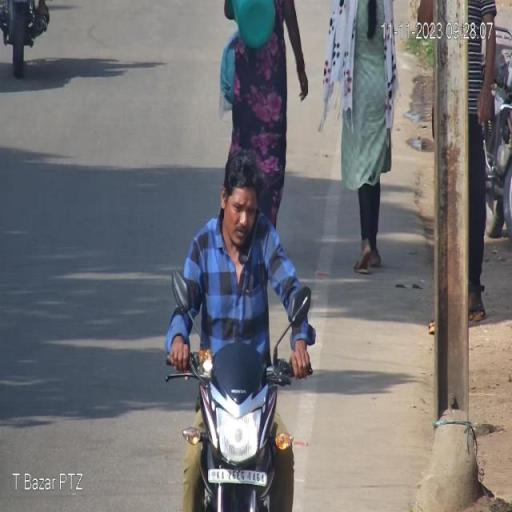using mobile: (222, 194, 270, 268)
